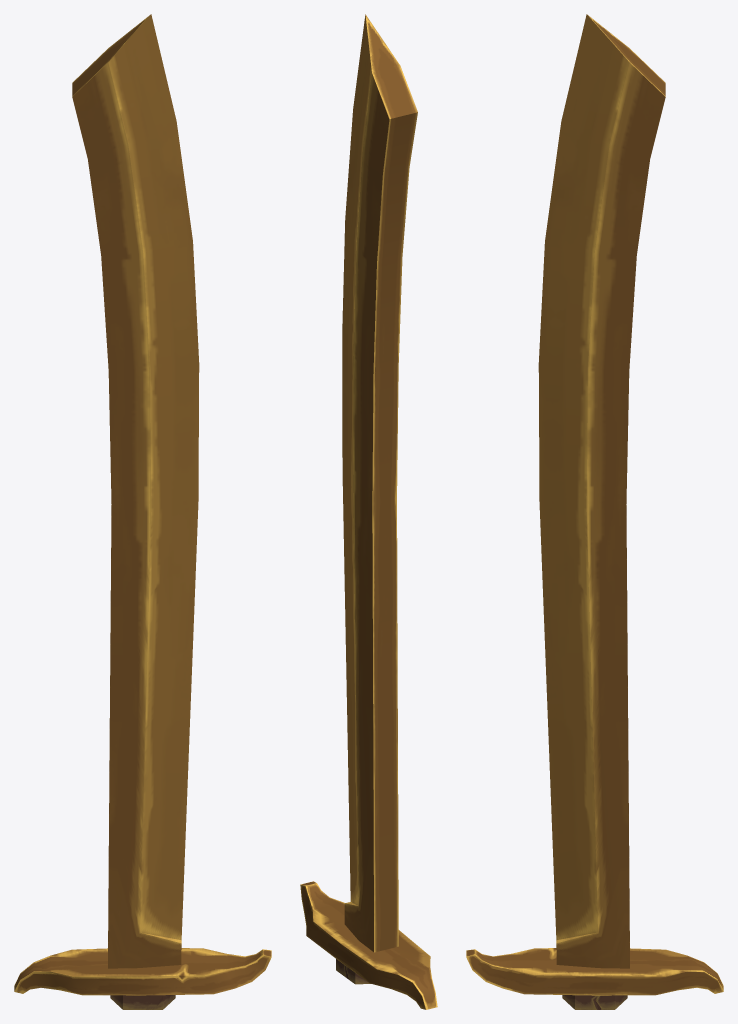
The model's file is SM_WEP_head_sword_battle_36.fbx.
3 views of the same model, side by side, from view 1: azimuth 90°, elevation 25°; view 2: azimuth 210°, elevation 25°; view 3: azimuth 270°, elevation 25° (orthographic). The views are drawn at different scales.
Visible parts, largest first — view 1: SM_WEP_head_sword_battle_36; view 2: SM_WEP_head_sword_battle_36; view 3: SM_WEP_head_sword_battle_36.
Part boxes in pixels (<box>): SM_WEP_head_sword_battle_36: <box>14,14,271,1009</box>; SM_WEP_head_sword_battle_36: <box>300,14,437,1009</box>; SM_WEP_head_sword_battle_36: <box>466,14,723,1009</box>.
Bounding box in the file's own units: 7.94 × 125 × 29.68.
